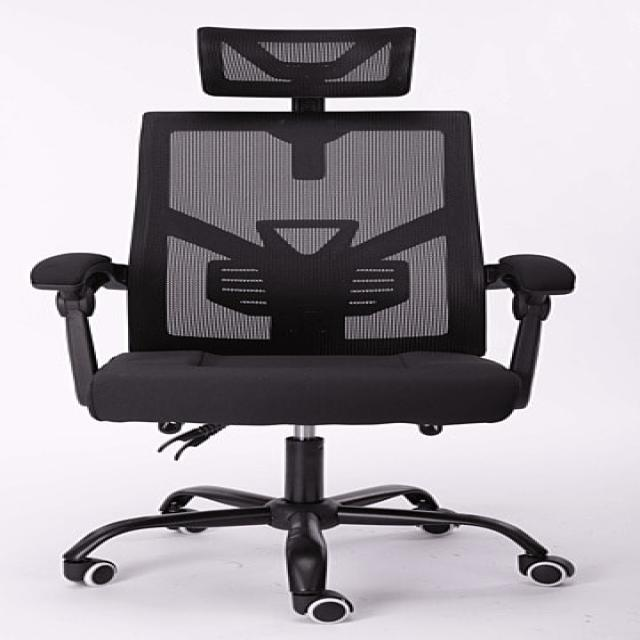chair: (28, 25, 578, 624)
